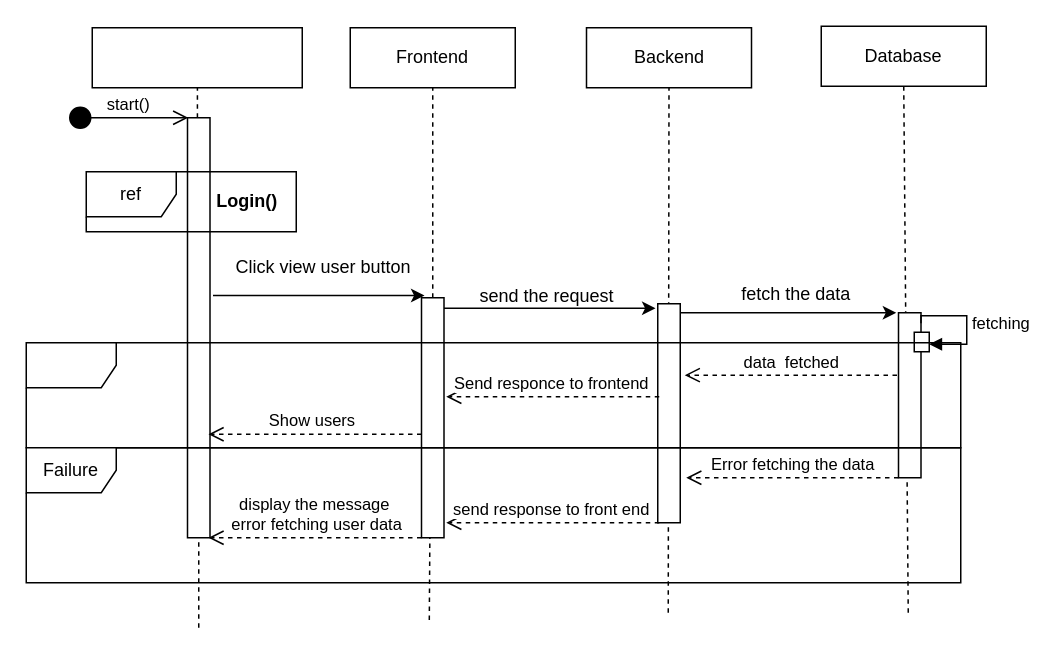
Image size: 1058x656. Some labels were removed from this diagram. Each missing label, with the centre of its shape:
Admin: the point at 196,57
Success: the point at 493,394
